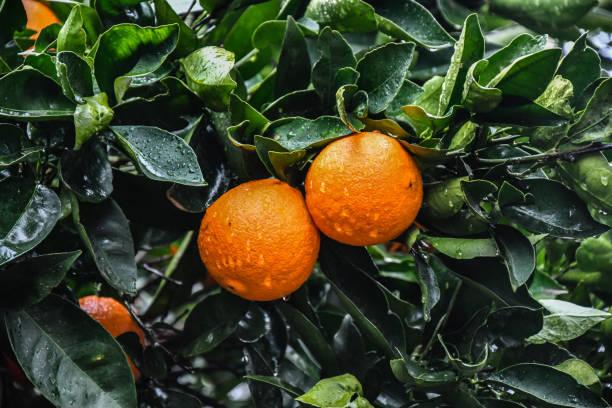orange: (163, 160, 325, 306), (307, 115, 435, 250)
